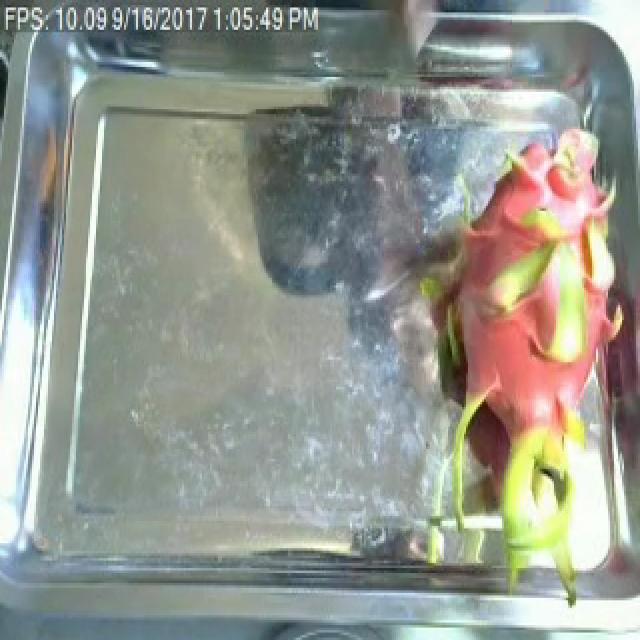fruit: (372, 201, 640, 615)
